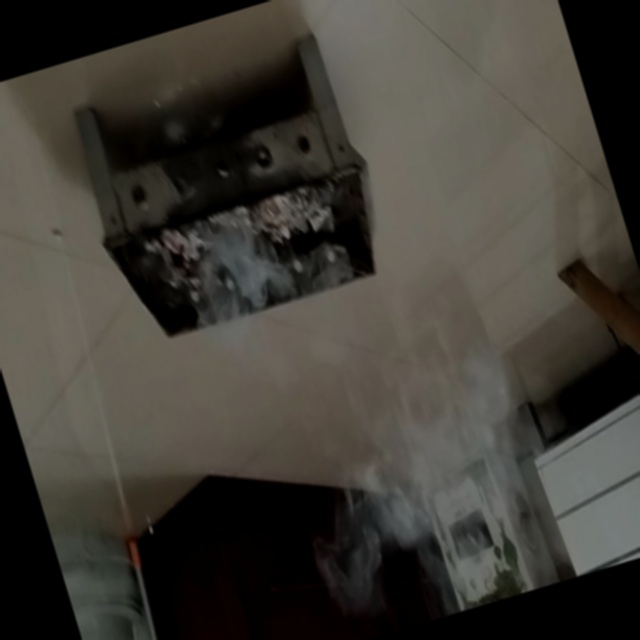smoke: (306, 304, 493, 544)
